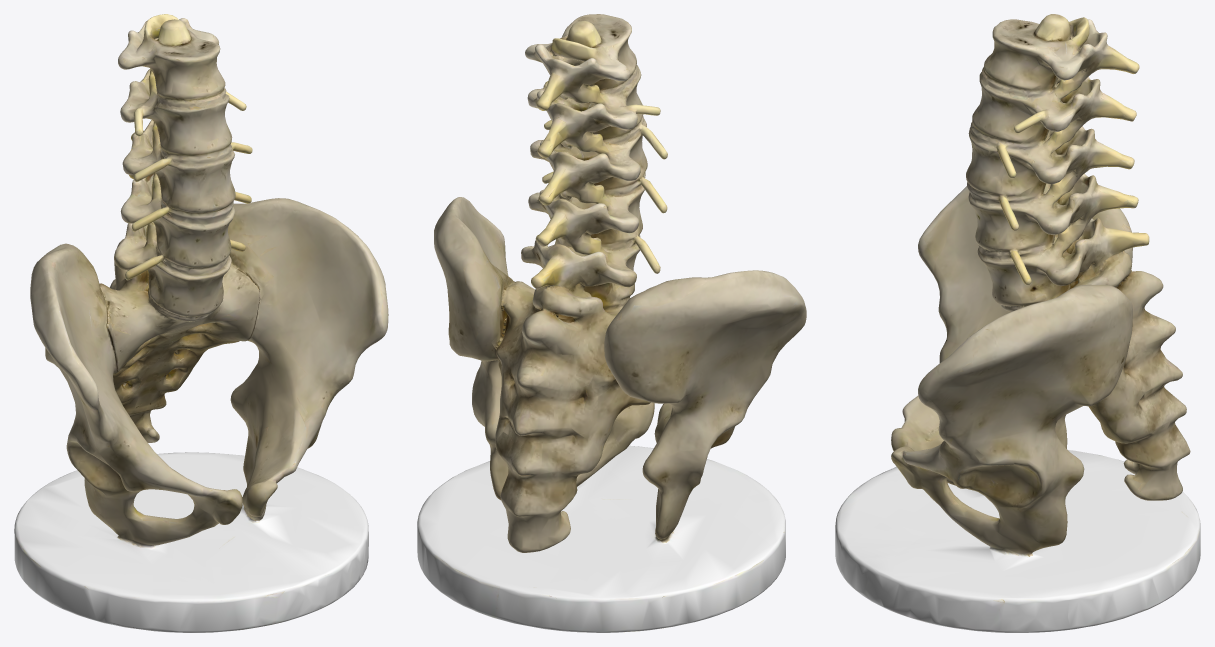
Rendered from spine.glb.
3 renders of one model, left to right at view 1: azimuth 30°, elevation 25°; view 2: azimuth 150°, elevation 25°; view 3: azimuth 270°, elevation 25°, orthographic. The views are drawn at different scales.
Visible parts, largest first — view 1: Mesh_0; view 2: Mesh_0; view 3: Mesh_0.
Boxes of the visible parts, x1,y1,x2,y2 form: Mesh_0: (14, 14, 388, 632); Mesh_0: (417, 14, 806, 632); Mesh_0: (835, 14, 1200, 632).
Bounding box in the file's own units: 1.25 × 1.9 × 1.16.
Materials: 1 (1 with a texture image).
